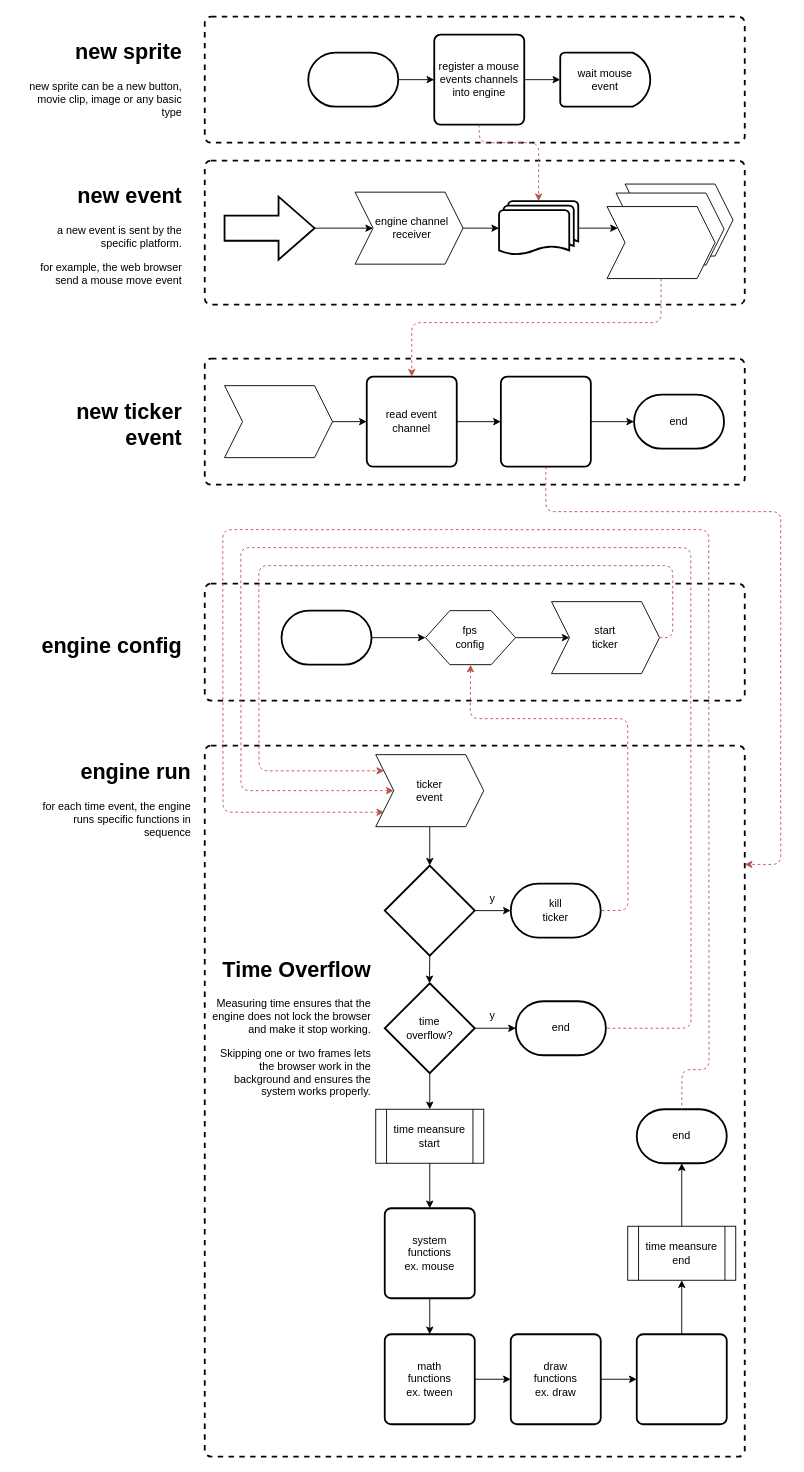
The diagram is 804 pixels wide and 1472 high, and some of its shapes have lost their labels. The centre of each missing label's shape, as x and y in pixels:
engine time ticker event: point (278, 421)
flag reload?: point (429, 910)
list of channels: point (538, 228)
mouse.draw(): point (681, 1379)
new sprite: point (353, 79)
process event function(): point (545, 421)
receive a mouse event from platform channel: point (269, 227)
send to mouse event channel into sprite: point (660, 242)
start: point (326, 637)
